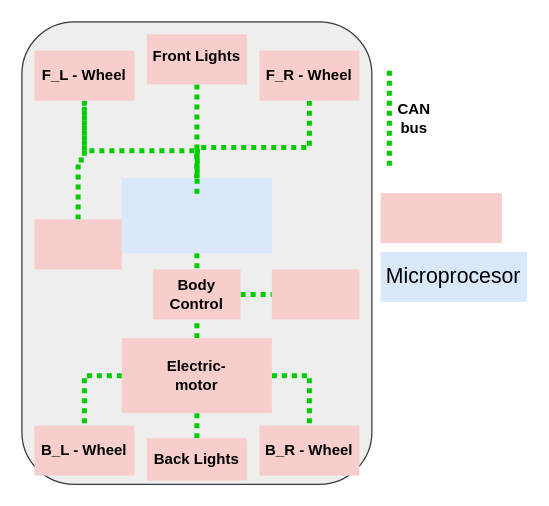
The diagram is 549 pixels wide and 506 high, and some of its shapes have lost their labels. Each missing label, with the box of its shape:
Battery Control: (271, 269, 359, 319)
Central Control: (121, 178, 271, 252)
Microntroller: (380, 192, 501, 242)
Steering Wheel: (34, 219, 121, 269)
